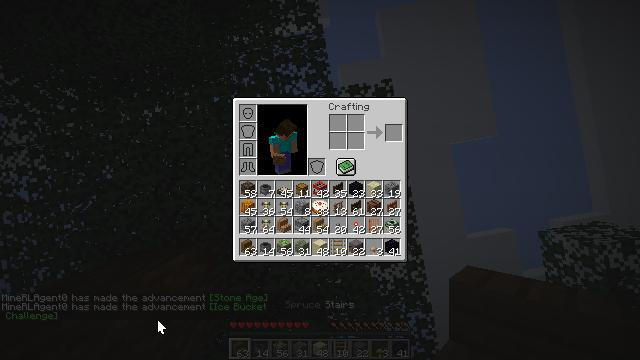cursor: (157, 319, 167, 335)
